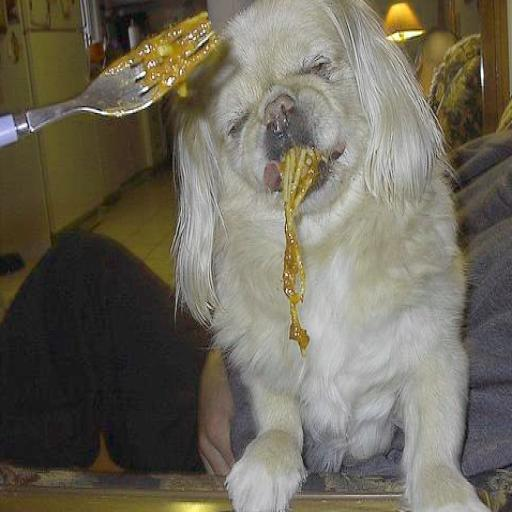dog_face: (179, 0, 439, 229)
